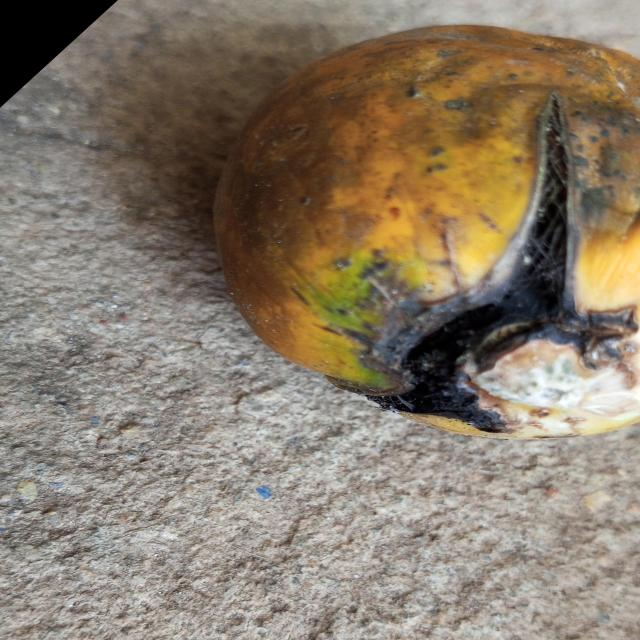damaged: (213, 24, 640, 442)
